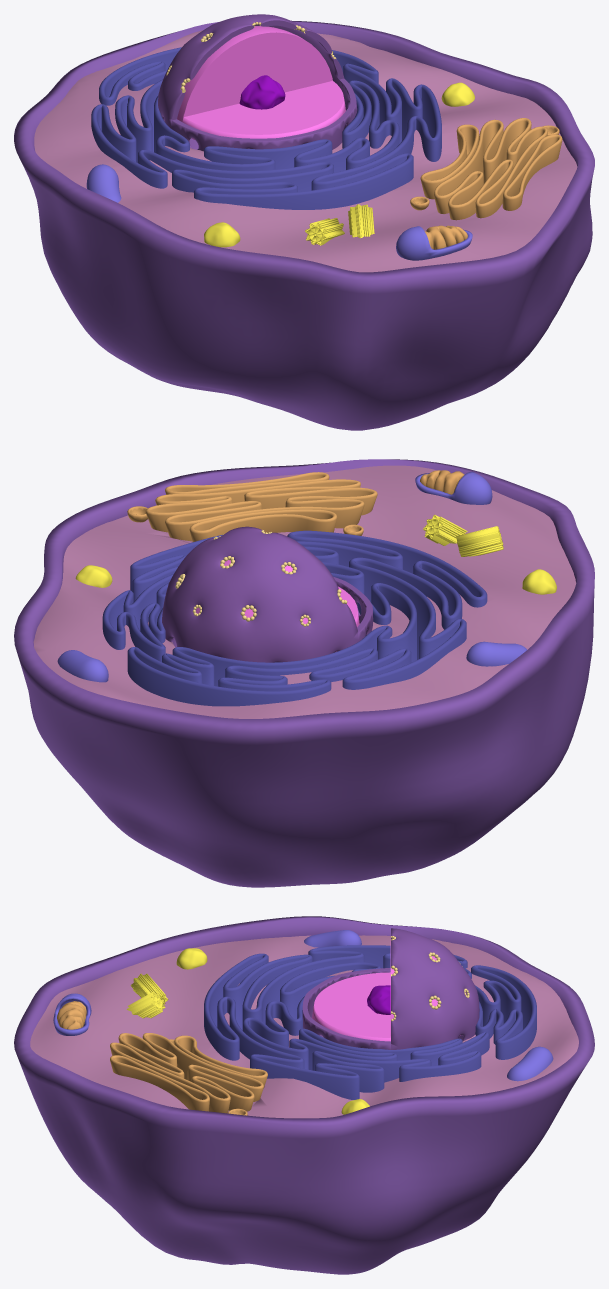
File: premodel.glb
3 views of the same model, one above another, from view 1: azimuth 30°, elevation 25°; view 2: azimuth 150°, elevation 25°; view 3: azimuth 270°, elevation 25° (orthographic). The views are drawn at different scales.
Parts seen in each view (by area): view 1: Sphere, Sphere.001, BezierCurve, Roundcube, BezierCurve.002, Icosphere, Roundcube.000, Sphere.002, Roundcube.001, Sphere.005; view 2: Sphere, Sphere.001, BezierCurve, Icosphere, BezierCurve.002, Sphere.002, Roundcube.000, Icosphere.002, Sphere.005; view 3: Sphere, Sphere.001, BezierCurve, Icosphere, BezierCurve.002, Roundcube, Sphere.002, Roundcube.000, Sphere.005, Roundcube.001.
Part boxes in pixels (x1,y1,x2,y2): Sphere: [14, 20, 594, 430]; Sphere.001: [34, 30, 577, 272]; BezierCurve: [91, 47, 441, 209]; Roundcube: [177, 26, 345, 139]; BezierCurve.002: [410, 118, 562, 220]; Icosphere: [158, 14, 357, 151]; Roundcube.000: [204, 82, 474, 247]; Sphere.002: [86, 164, 472, 260]; Roundcube.001: [239, 75, 285, 109]; Sphere.005: [424, 225, 467, 249]; Sphere: [14, 459, 594, 887]; Sphere.001: [33, 465, 576, 718]; BezierCurve: [102, 530, 487, 706]; Icosphere: [162, 526, 373, 662]; BezierCurve.002: [127, 472, 377, 541]; Sphere.002: [57, 471, 527, 682]; Roundcube.000: [75, 514, 556, 594]; Icosphere.002: [175, 530, 347, 626]; Sphere.005: [420, 470, 464, 494]; Sphere: [14, 916, 594, 1274]; Sphere.001: [30, 935, 578, 1118]; BezierCurve: [204, 945, 536, 1099]; Icosphere: [302, 928, 479, 1049]; BezierCurve.002: [110, 1033, 267, 1115]; Roundcube: [312, 940, 466, 1041]; Sphere.002: [53, 930, 553, 1081]; Roundcube.000: [126, 948, 369, 1114]; Sphere.005: [57, 1001, 86, 1029]; Roundcube.001: [367, 985, 390, 1014].
Bounding box in the file's own units: 5.96 × 3.98 × 7.05.
